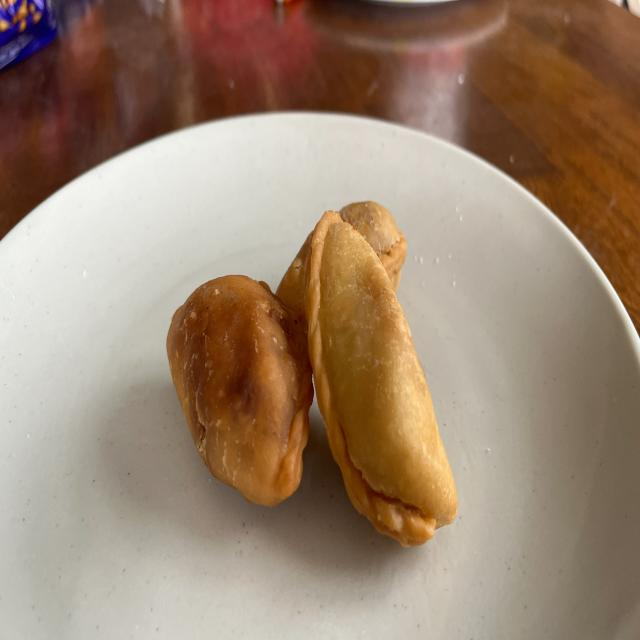karipap: (305, 211, 458, 547), (166, 276, 314, 507), (340, 200, 408, 291), (276, 233, 312, 333)
